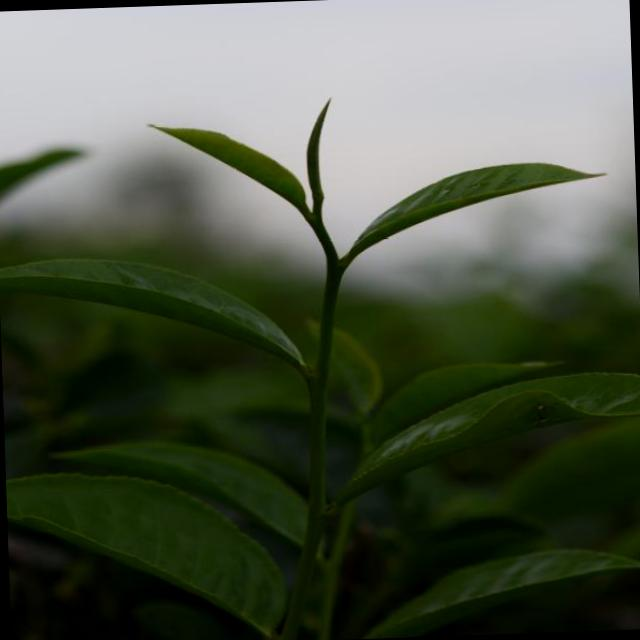Stem: (322, 275, 342, 306)
